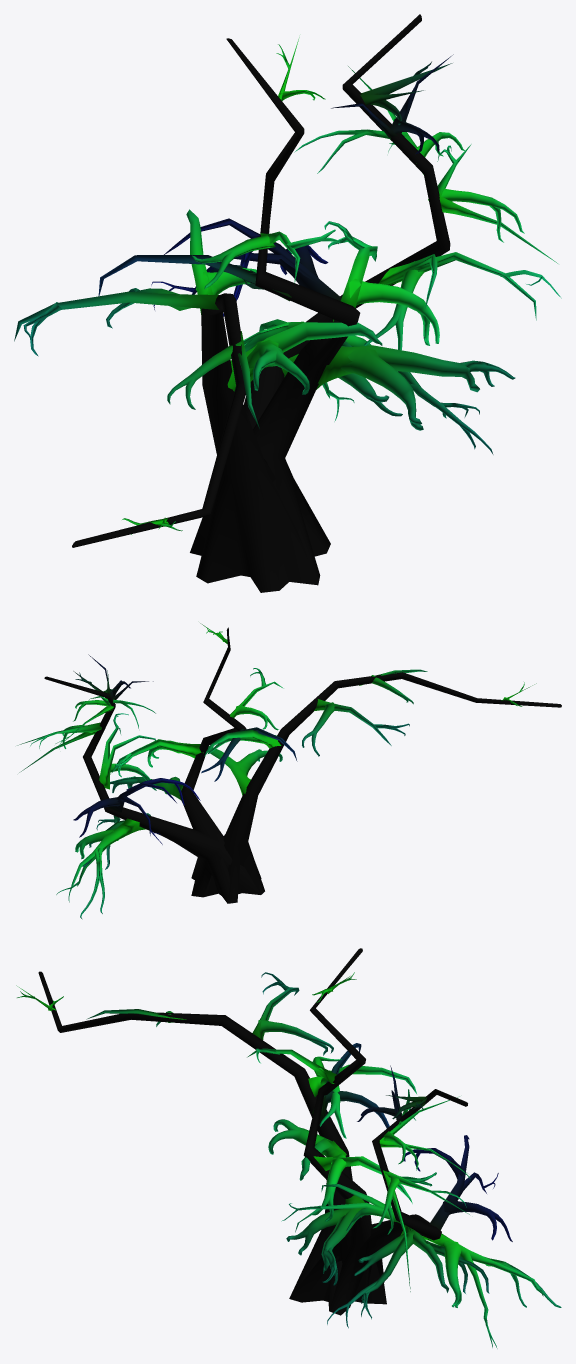
Rendered from tree_03.fbx.
3 views of the same model, one above another, from view 1: azimuth 30°, elevation 25°; view 2: azimuth 150°, elevation 25°; view 3: azimuth 270°, elevation 25° (orthographic). The views are drawn at different scales.
Visible parts, largest first — view 1: _0; view 2: _0; view 3: _0.
Boxes of the visible parts, x1,y1,x2,y2 form: _0: (14,14,561,592); _0: (17,623,561,919); _0: (16,948,561,1348).
Bounding box in the file's own units: 681 × 436 × 638.
